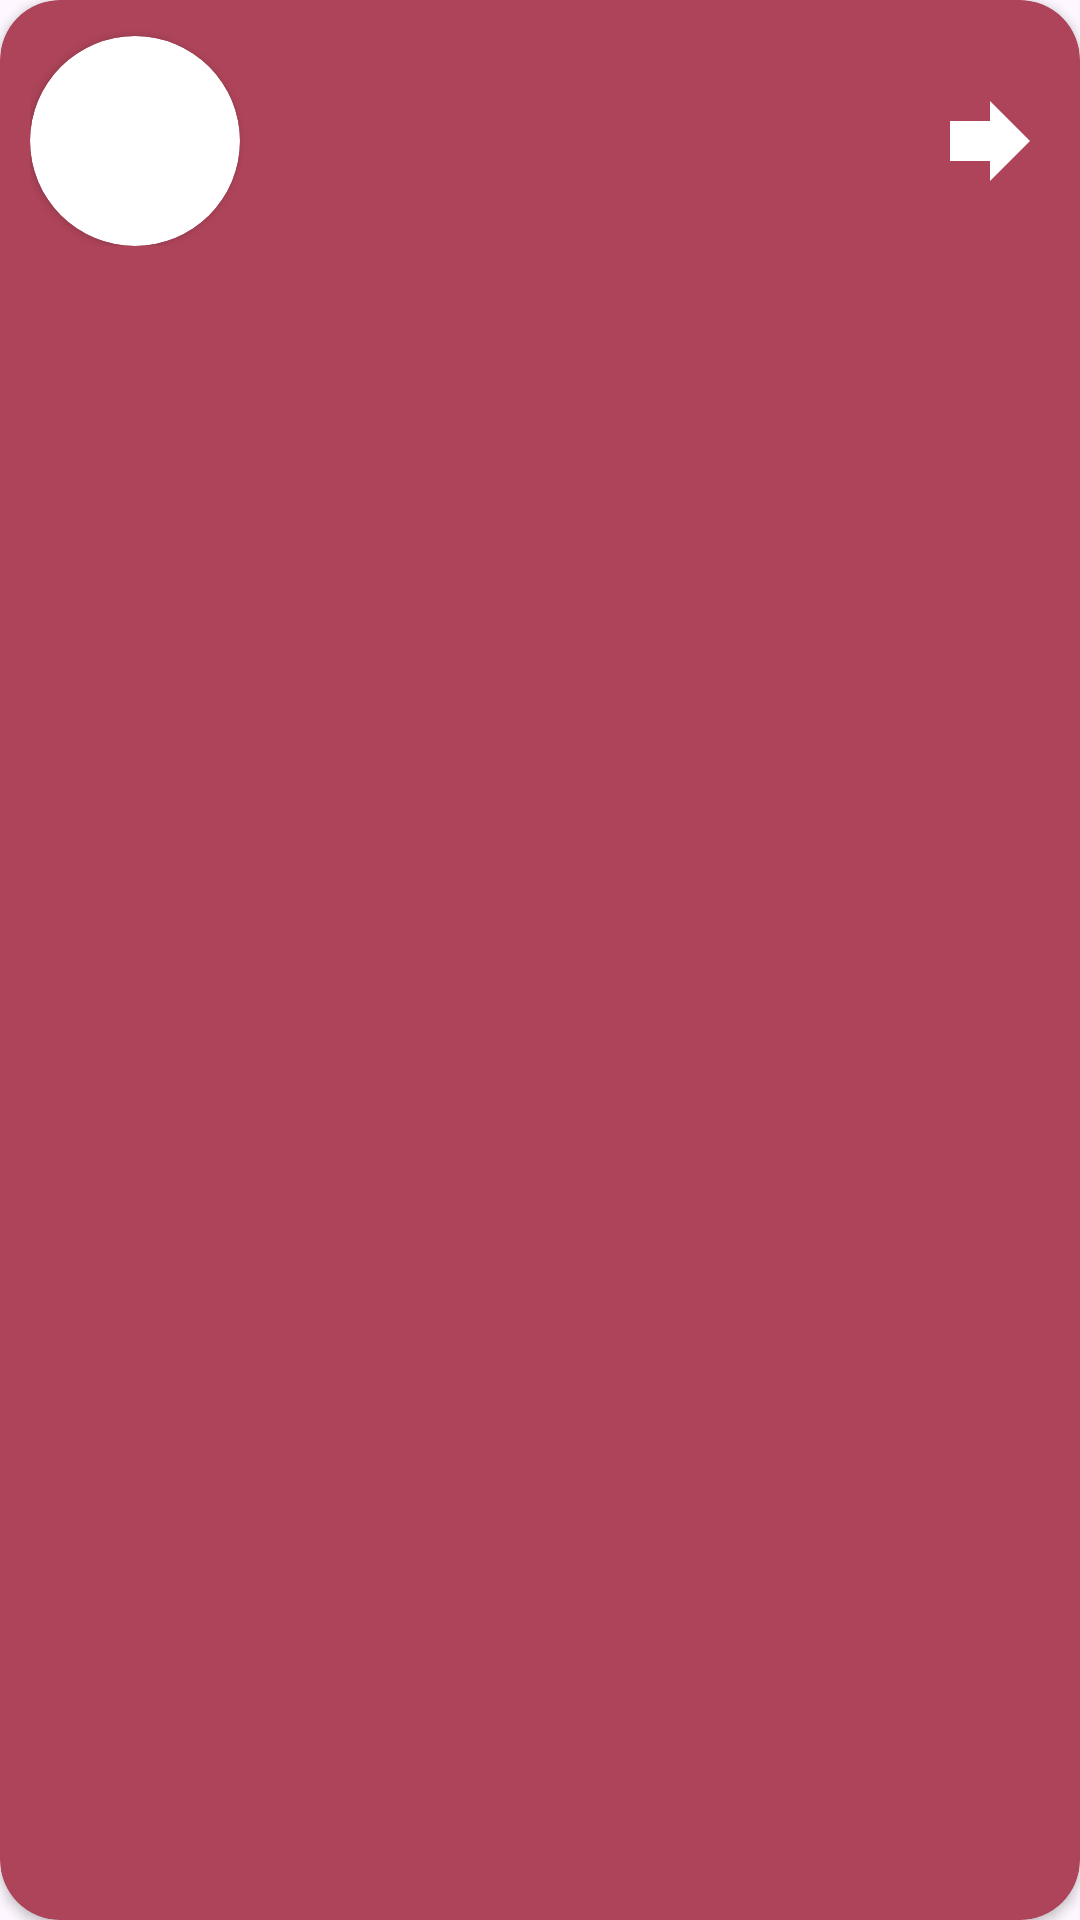

Icon bounding boxes for this 1080px x 1920px phone screenshot, format bbox=(x1, y1, x2, y2):
forward: bbox=(950, 101, 1030, 181)
